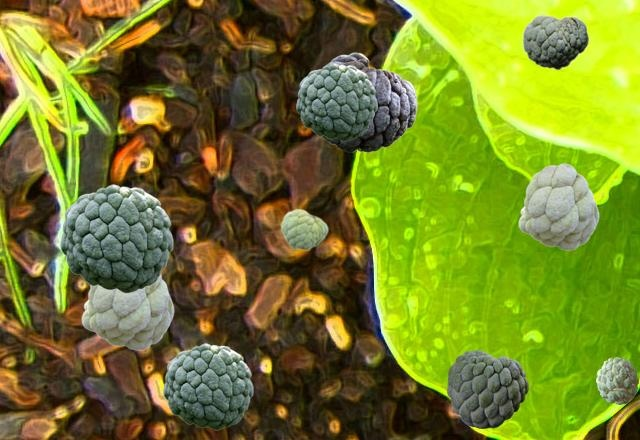atis: (60, 184, 172, 292), (322, 52, 416, 151), (163, 343, 252, 429), (518, 163, 598, 249), (81, 275, 173, 349), (447, 350, 527, 427), (296, 63, 376, 140), (522, 14, 588, 69), (280, 208, 327, 250), (596, 357, 637, 403)
